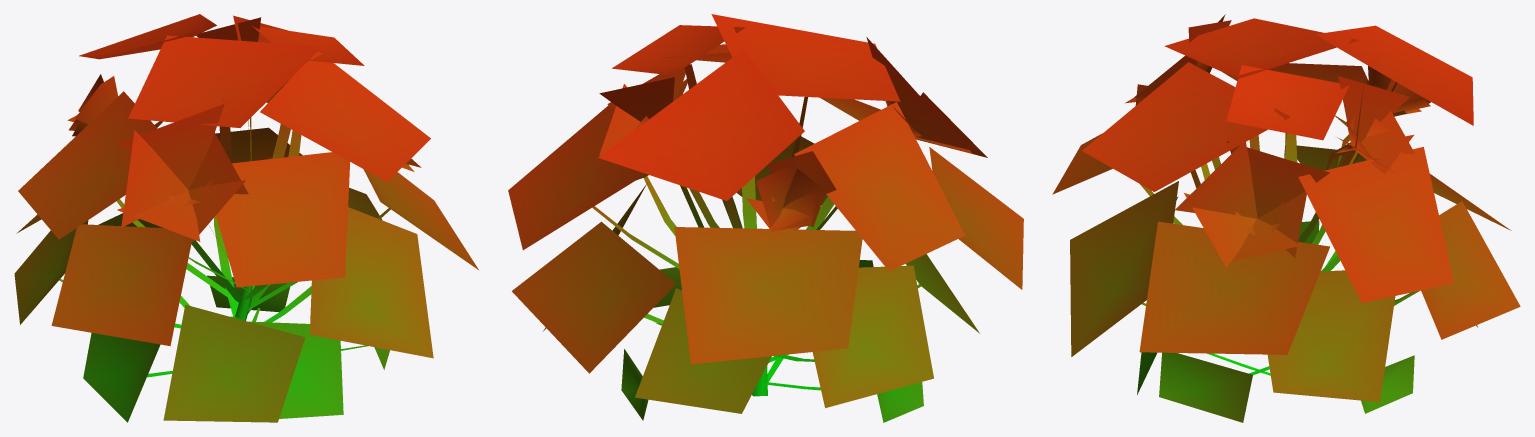
The model's file is Var11_LOD2.fbx.
The picture shows the model from 3 angles, left to right: view 1: azimuth 30°, elevation 25°; view 2: azimuth 150°, elevation 25°; view 3: azimuth 270°, elevation 25°; orthographic projection. The views are drawn at different scales.
Parts seen in each view (by area): view 1: _af47_Var11_LOD2; view 2: _af47_Var11_LOD2; view 3: _af47_Var11_LOD2.
Part boxes in pixels (x1,y1,x2,y2): _af47_Var11_LOD2: (14,14,478,422); _af47_Var11_LOD2: (508,14,1023,422); _af47_Var11_LOD2: (1052,14,1520,422).
Bounding box in the file's own units: 28.33 × 21.91 × 26.91.
